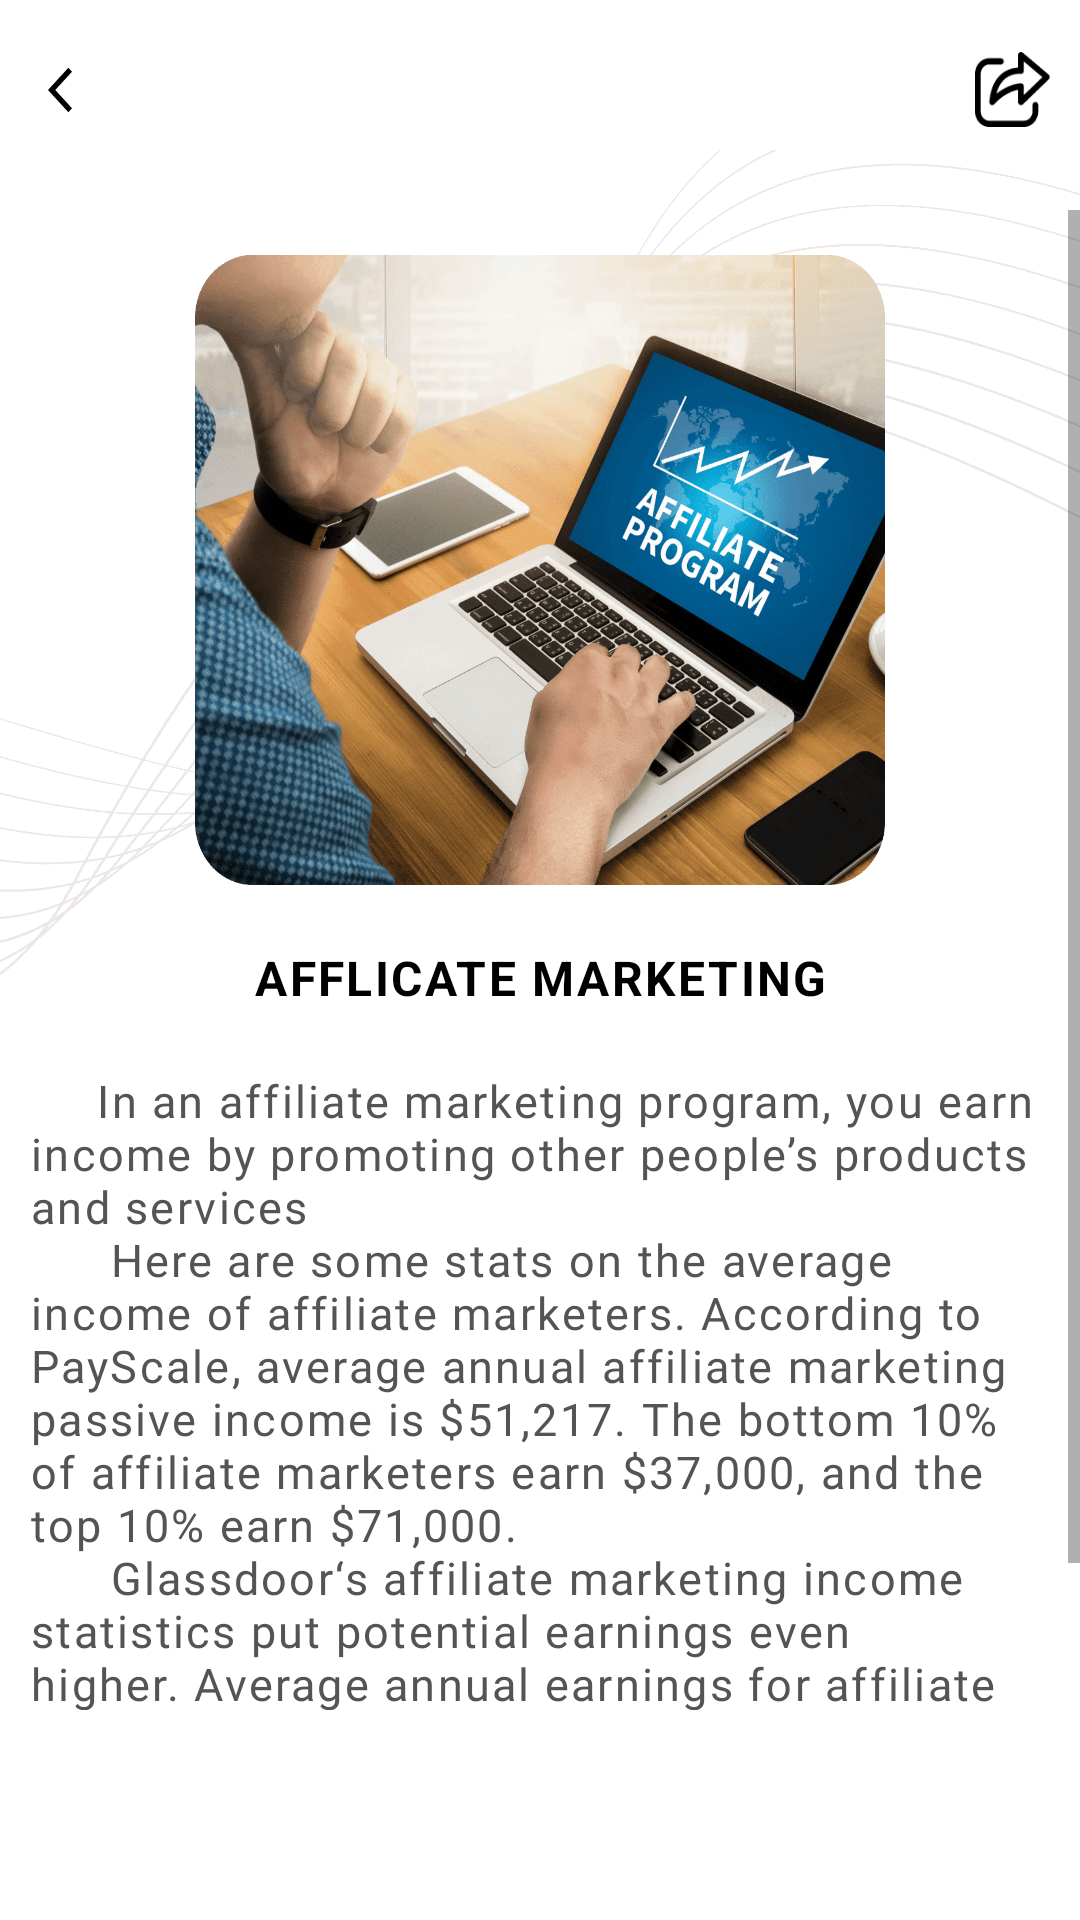

Point at icon controls on the screen. Image size 1080*1920, points as point (x, y).
share: point (1012, 89)
